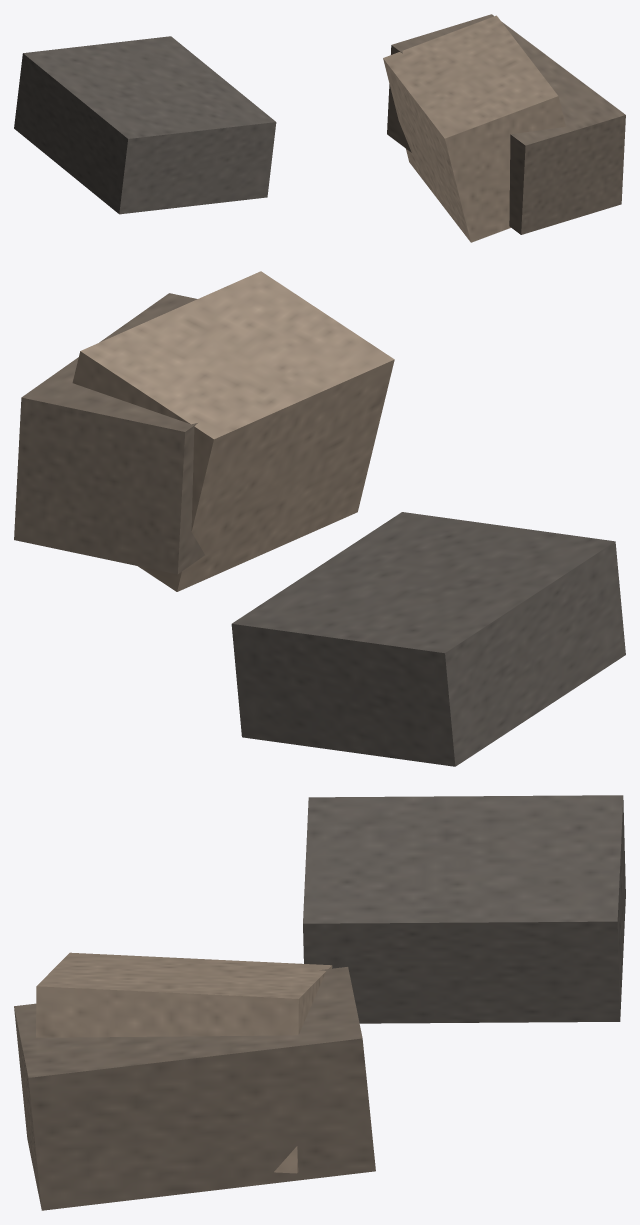
The model's file is Deco_Cailloux_C.obj.
The picture shows the model from 3 angles, top to bottom: view 1: azimuth 30°, elevation 25°; view 2: azimuth 150°, elevation 25°; view 3: azimuth 270°, elevation 25°; orthographic projection. The views are drawn at different scales.
Visible parts, largest first — view 1: Deco_Cailloux_C; view 2: Deco_Cailloux_C; view 3: Deco_Cailloux_C.
Boxes of the visible parts, x1=… form: Deco_Cailloux_C: x1=14, y1=14, x2=625, y2=242; Deco_Cailloux_C: x1=14, y1=271, x2=625, y2=766; Deco_Cailloux_C: x1=14, y1=795, x2=625, y2=1210.
Size of the model in its own units: 2.05 by 0.6825 by 1.87.
1 material, 1 textured.
